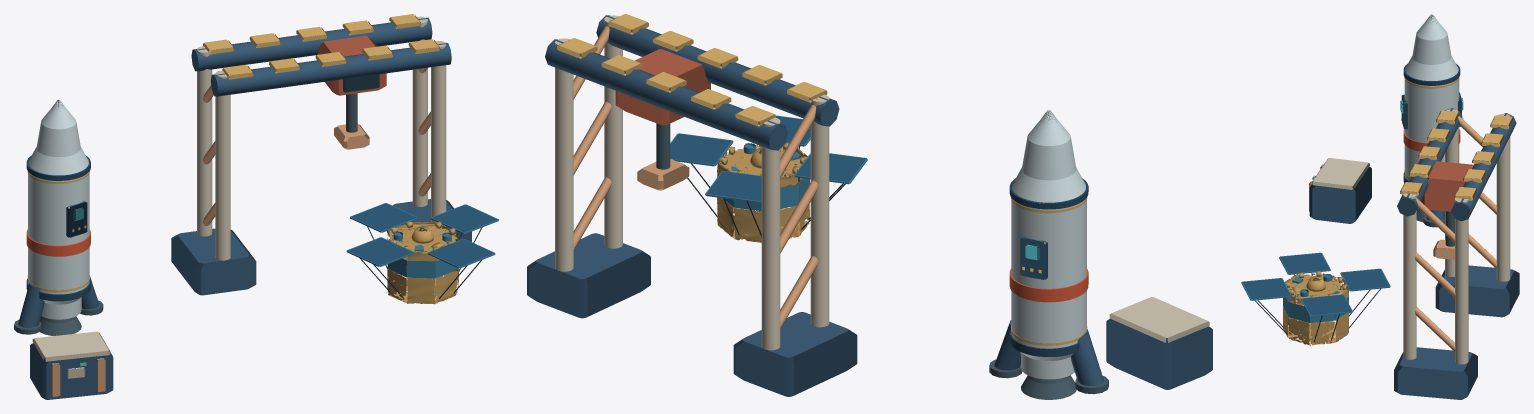
File: orbita-ensamble.obj
3 views of the same model, side by side, from view 1: azimuth 30°, elevation 25°; view 2: azimuth 150°, elevation 25°; view 3: azimuth 270°, elevation 25° (orthographic). The views are drawn at different scales.
Visible parts, largest first — view 1: orbita-ensamble; view 2: orbita-ensamble; view 3: orbita-ensamble.
Part boxes in pixels (box(x1,y1,x2,y2)): orbita-ensamble: box(14, 14, 498, 399); orbita-ensamble: box(527, 14, 1212, 399); orbita-ensamble: box(1241, 14, 1519, 399).
Bounding box in the file's own units: 1.52 × 0.7256 × 0.8624.
